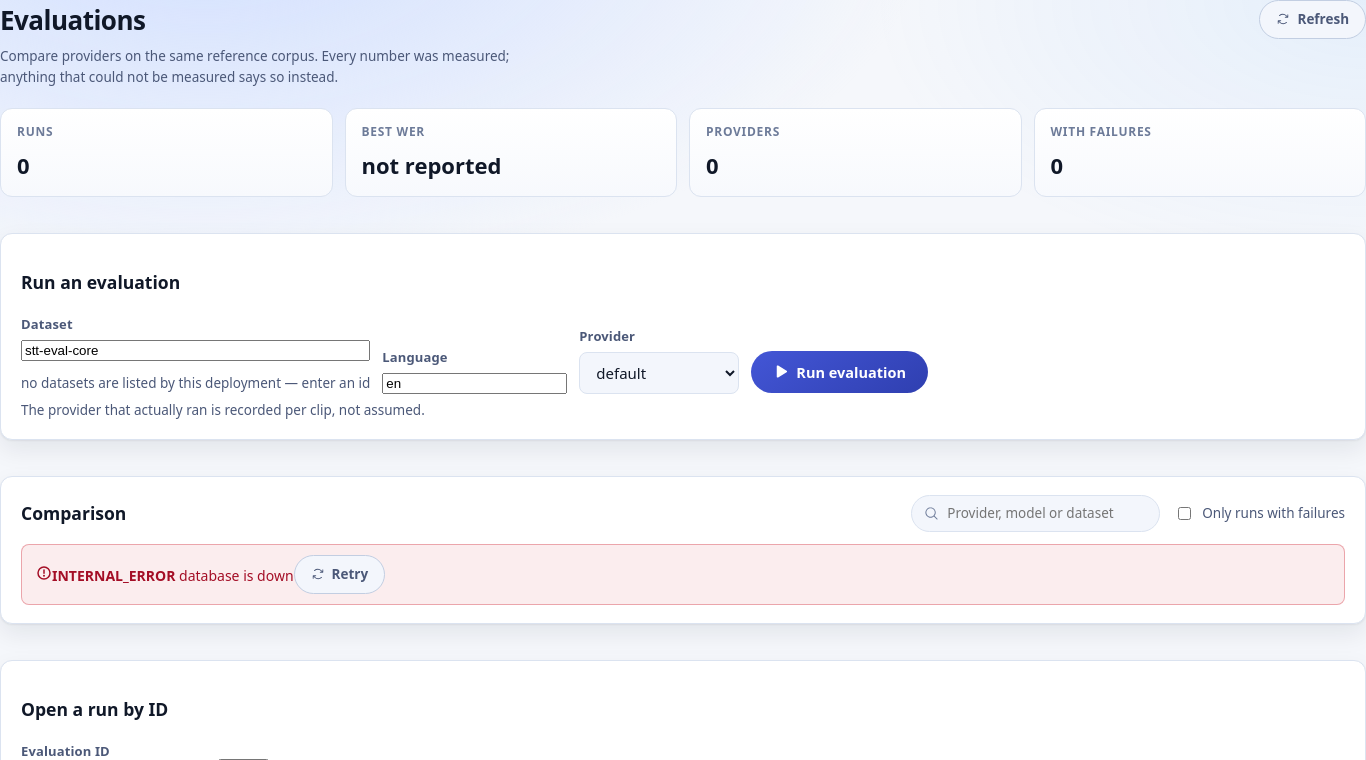
Test: a failed list load is reported and can be retried
Expected: the message shows "database is down", [179,566,294,586]
Click the button "Retry".
click(339, 574)  # box [294,555,385,594]
(page scrolled)
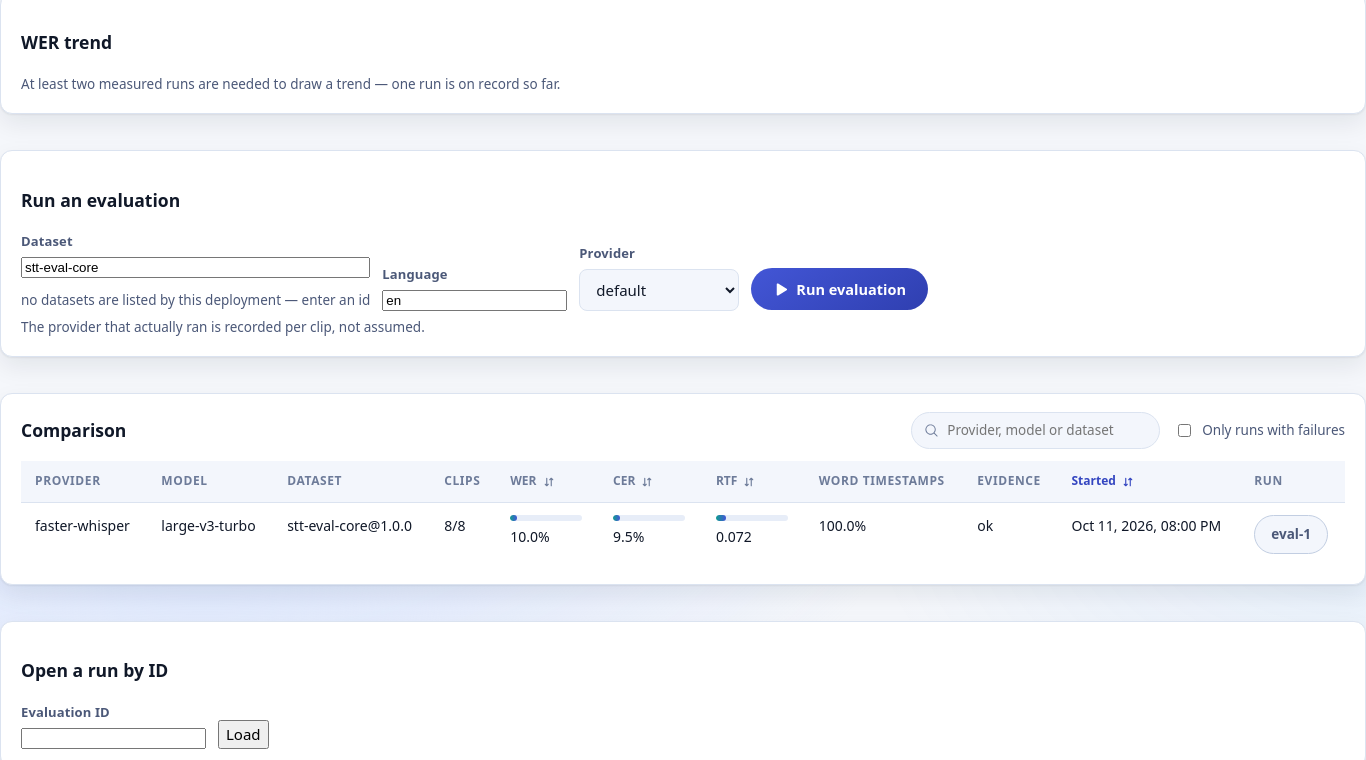
Result: the text "faster-whisper" is shown at [21,502,147,566]
